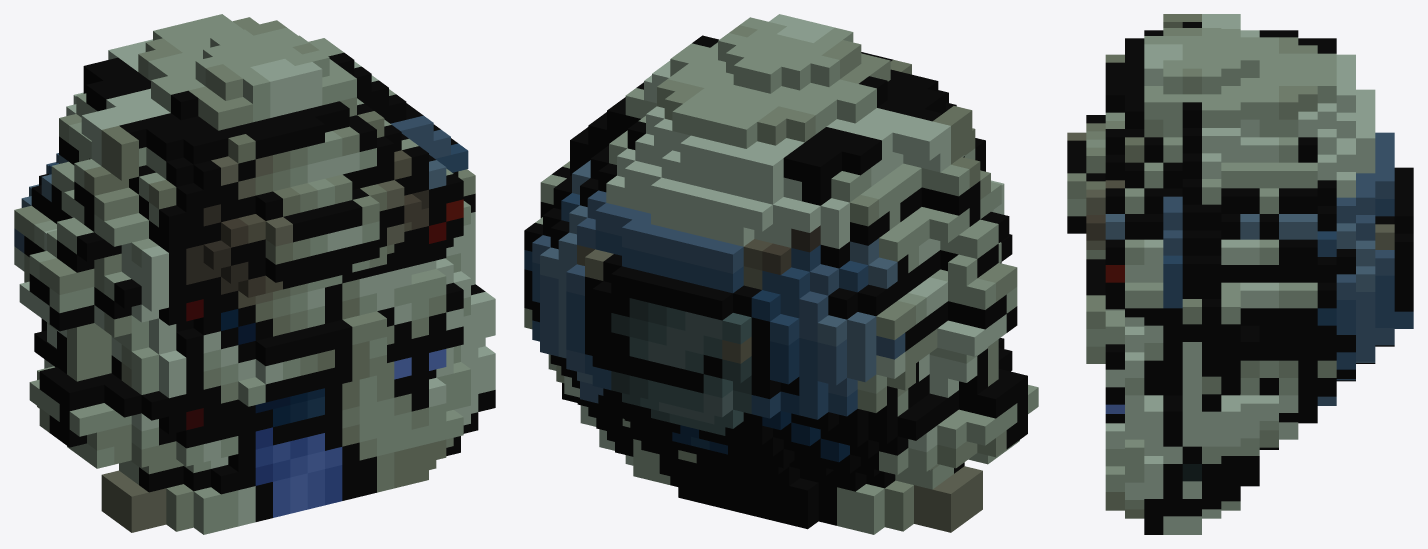
The model's file is Icon_734_02.obj.
The picture shows the model from 3 angles, left to right: view 1: azimuth 30°, elevation 25°; view 2: azimuth 150°, elevation 25°; view 3: azimuth 270°, elevation 25°; orthographic projection. The views are drawn at different scales.
Size of the model in its own units: 2.4 by 2.3 by 1.8.
1 material, 1 textured.
